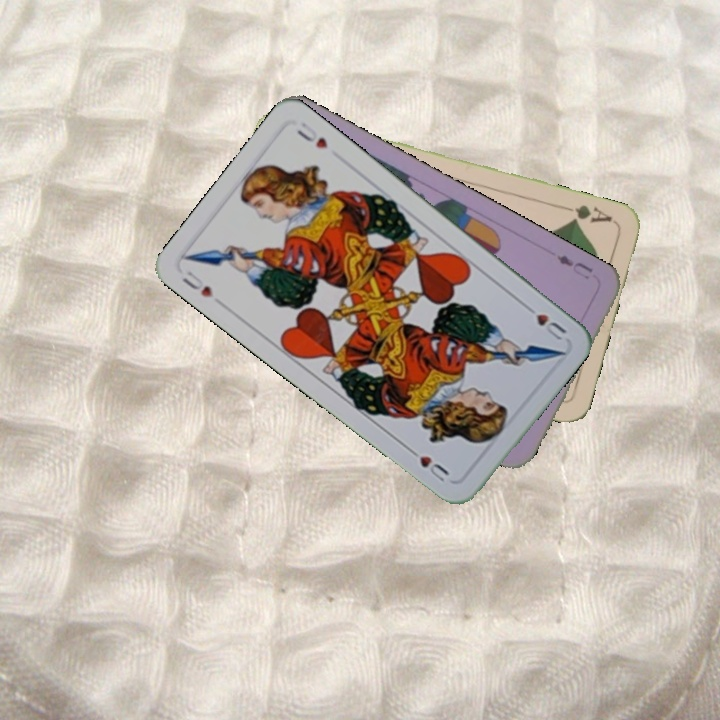EU: (552, 250, 596, 282)
GA: (558, 201, 615, 226)
HU: (519, 301, 569, 343), (178, 267, 216, 301)
